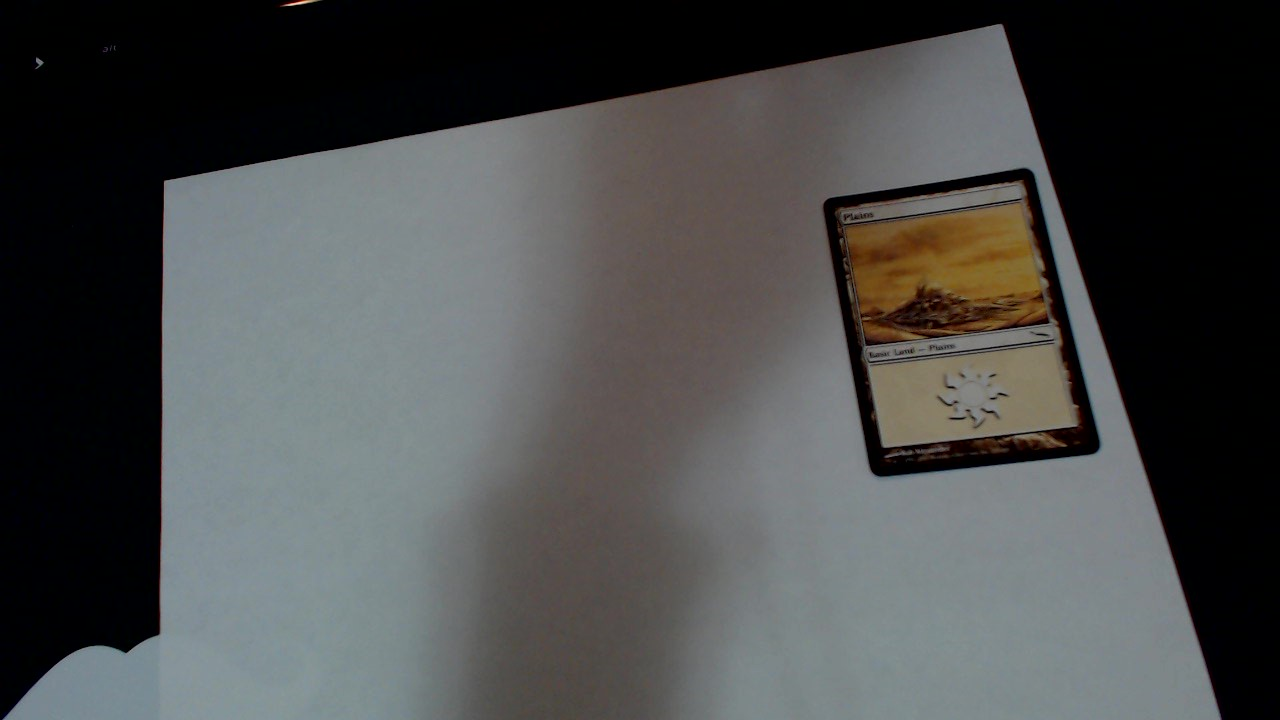MTG Card: (818, 165, 1109, 483)
